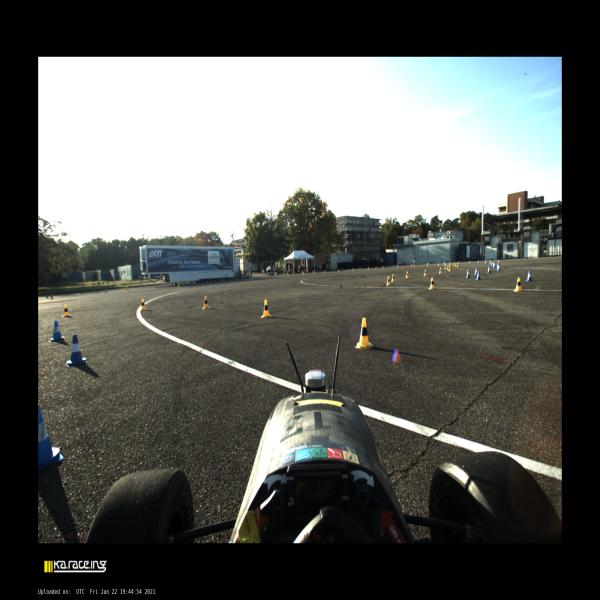blue_cone: (38, 406, 63, 470), (66, 334, 87, 367), (50, 320, 65, 341), (526, 270, 533, 281), (476, 271, 482, 280), (466, 270, 471, 278), (487, 266, 492, 274), (474, 268, 478, 275), (497, 265, 501, 271), (46, 293, 49, 298), (496, 263, 499, 268), (493, 263, 496, 268), (484, 259, 487, 264), (498, 260, 500, 266), (477, 260, 480, 264), (105, 288, 107, 294), (492, 262, 494, 267), (489, 260, 491, 265), (469, 260, 471, 264), (155, 285, 157, 289), (458, 261, 460, 264), (284, 273, 286, 276), (221, 279, 223, 282), (491, 261, 492, 266), (194, 282, 195, 285), (342, 268, 343, 271)
large_orange_cone: (302, 270, 303, 274), (314, 270, 315, 274)
yellow_cone: (356, 318, 372, 349), (261, 300, 272, 318), (62, 304, 72, 318), (202, 295, 211, 310), (514, 277, 522, 291), (140, 298, 148, 311), (429, 277, 435, 289), (386, 276, 391, 285), (392, 274, 396, 282), (405, 271, 409, 279), (424, 269, 427, 276), (439, 267, 442, 274), (448, 265, 451, 272), (444, 264, 447, 270), (50, 294, 53, 300), (126, 287, 129, 292), (457, 262, 459, 268), (447, 265, 449, 270), (455, 262, 457, 267), (449, 261, 451, 266), (453, 262, 455, 266), (367, 266, 369, 270), (396, 264, 398, 268), (413, 263, 415, 267), (178, 282, 179, 288), (427, 263, 429, 266), (230, 279, 232, 282), (251, 277, 253, 280), (438, 262, 439, 266), (352, 268, 354, 270), (382, 266, 384, 268), (210, 280, 211, 284), (288, 273, 289, 276), (324, 270, 325, 273), (338, 269, 339, 272), (303, 272, 304, 274)
